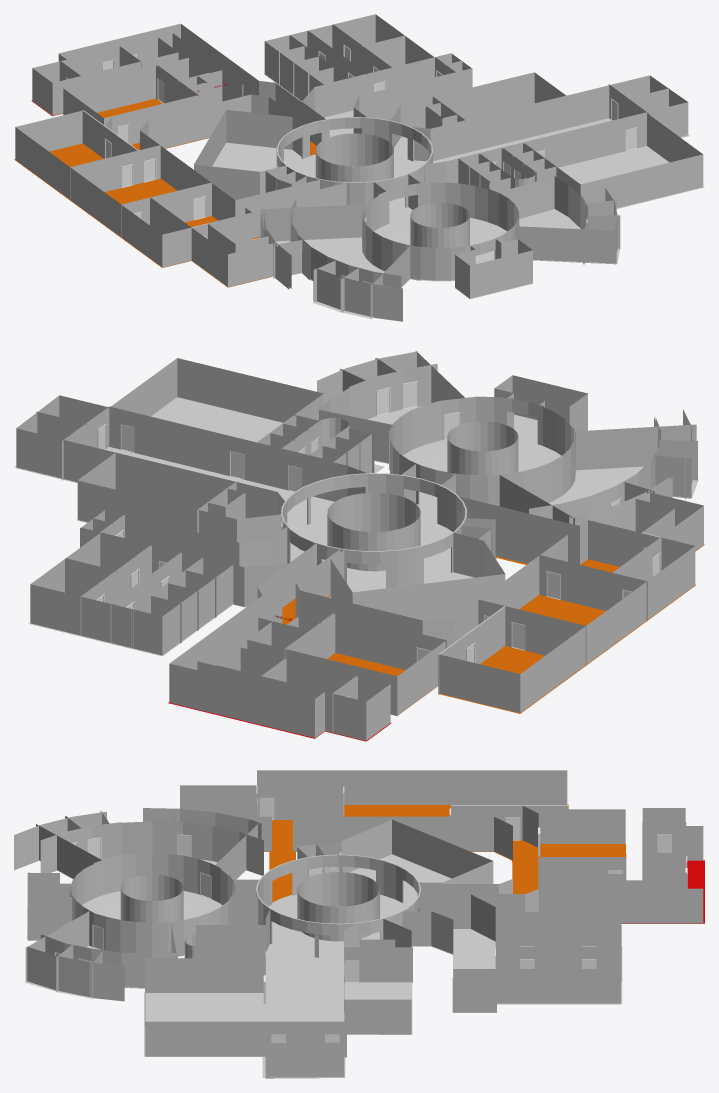
File: New Map.fbx
The picture shows the model from 3 angles, top to bottom: view 1: azimuth 30°, elevation 25°; view 2: azimuth 150°, elevation 25°; view 3: azimuth 270°, elevation 25°; orthographic projection. The views are drawn at different scales.
Visible parts, largest first — view 1: Cube.025, Cube.038, Cube.030, Cube.009, Cylinder.004, Cube.036, Circle.001, Cube.018, Cylinder.006, Cube.041, Circle, Cylinder.009 (+25 smaller); view 2: Cube.038, Cube.025, Cube.009, Cube.030, Cube.041, Cylinder.004, Cube.036, Circle.001, Cylinder.006, Cube.018, Cylinder.008, Cylinder.005 (+25 smaller); view 3: Cube.038, Circle.001, Cube.025, Cube.030, Cylinder.004, Cylinder.005, Cube.009, Cylinder.009, Cylinder.006, Plane.003, Cube.018, Cube.036 (+21 smaller).
Boxes of the visible parts, x1,y1,x2,y2 form: Cube.025: (412,75,703,208); Cube.038: (32,14,471,145); Cube.030: (15,110,277,287); Cube.009: (140,94,346,254); Cylinder.004: (362,182,519,281); Cube.036: (63,57,222,144); Circle.001: (212,73,704,212); Cube.018: (194,110,302,199); Cylinder.006: (276,117,432,212); Cube.041: (390,72,565,147); Circle: (272,209,619,318); Cylinder.009: (260,188,617,321); Cube.038: (30,510,390,741); Cube.025: (16,358,374,501); Cube.009: (295,496,674,637); Cube.030: (440,491,703,713); Cube.041: (77,452,284,542); Cylinder.004: (389,396,575,509); Cube.036: (247,613,446,715); Circle.001: (14,397,497,655); Cylinder.006: (281,473,466,590); Cube.018: (330,533,505,620); Cylinder.008: (327,492,420,571); Cylinder.005: (318,364,661,519); Cube.038: (402,808,703,1004); Circle.001: (144,854,622,1077); Cube.025: (145,909,357,1078); Cube.030: (180,770,567,810); Cylinder.004: (69,853,235,956); Cylinder.005: (40,821,263,988); Cube.009: (198,793,512,893); Cylinder.009: (14,808,261,1001); Cylinder.006: (256,854,420,958); Plane.003: (264,804,626,902); Cube.018: (341,819,493,883); Cube.036: (538,809,626,888).
Size of the model in its own units: 6276 by 385 by 6703.
